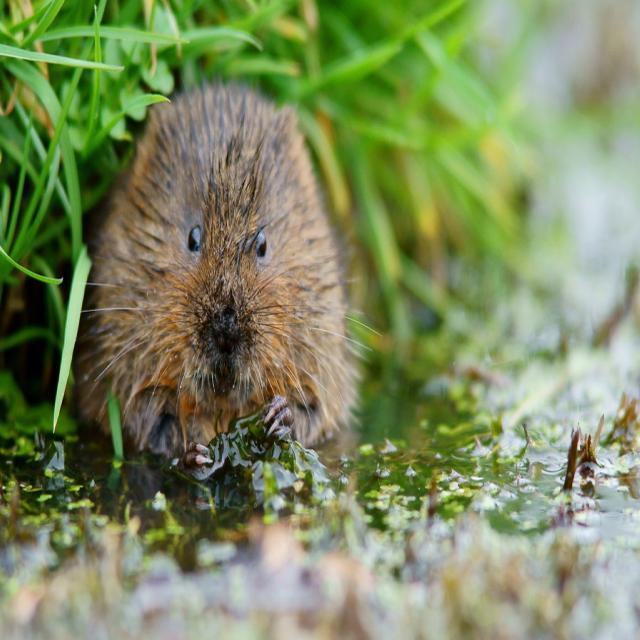rat: (61, 75, 370, 492)
